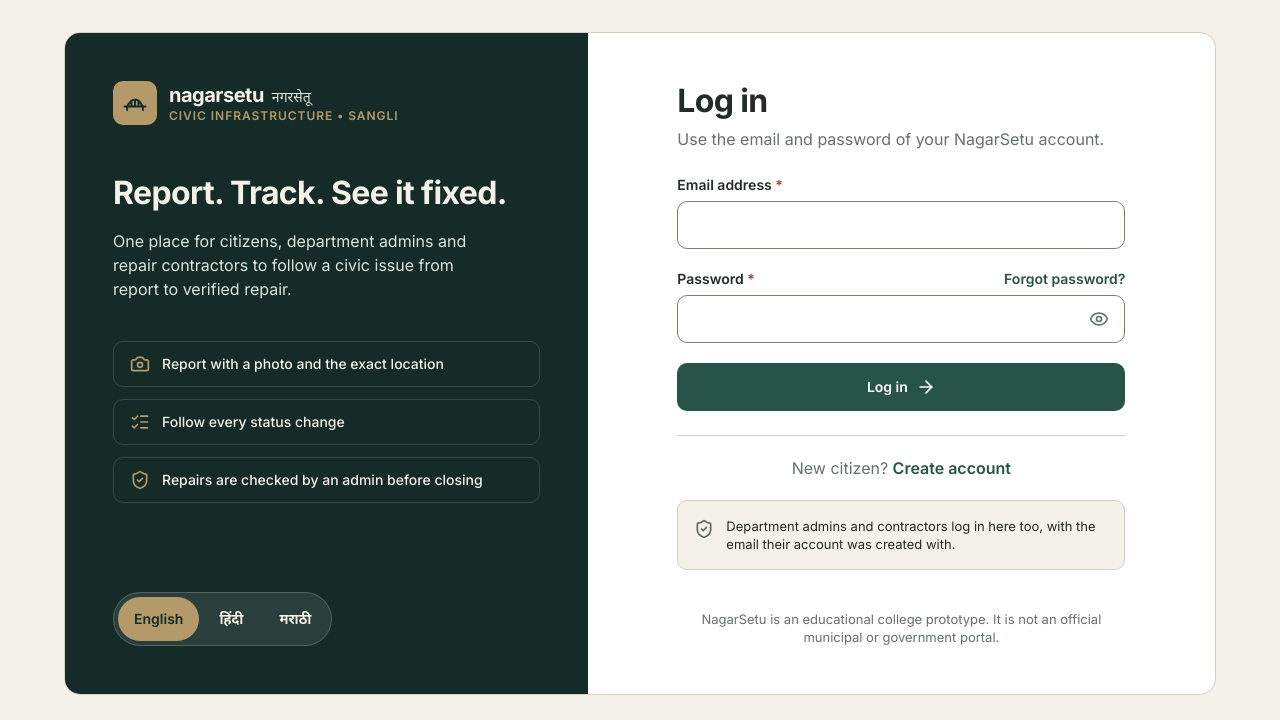
Test: login and role redirect › forces an admin with an initial password to change it first
Type "x@example.com" into the field labelled "Email address *". click: point(901, 225)
box: [677,201,1125,249]
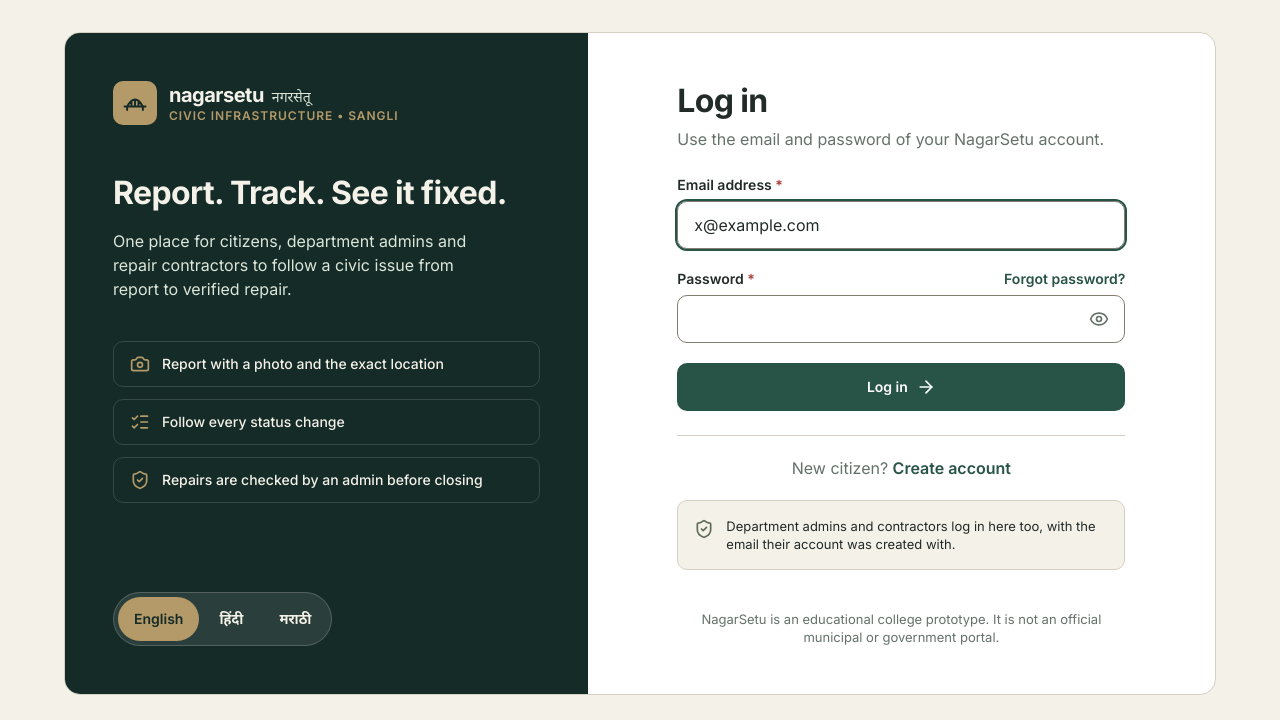
Type "secret-pass" into the password field labelled "Password *". click: point(901, 319)
box: [677,295,1125,343]
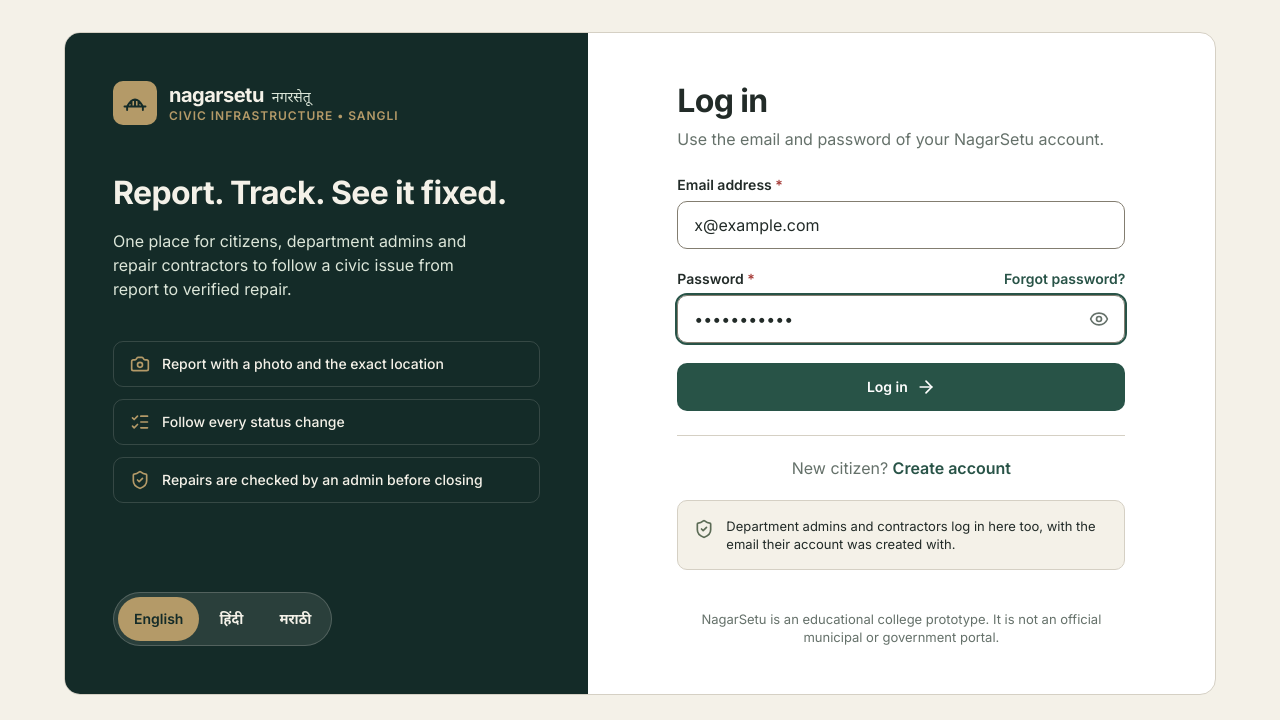
Click the button "Log in". click: point(901, 387)
box: [677,363,1125,411]
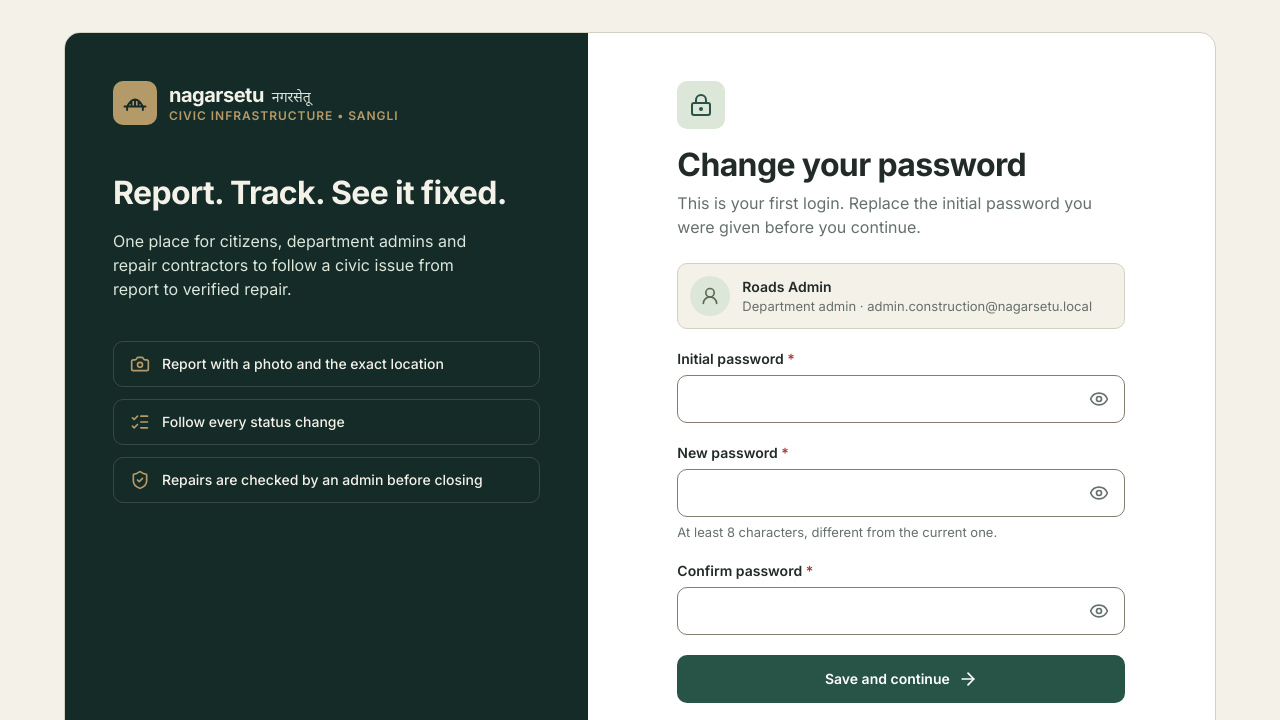
Expected: the heading "Change your password" is shown, [677,145,1026,184]
